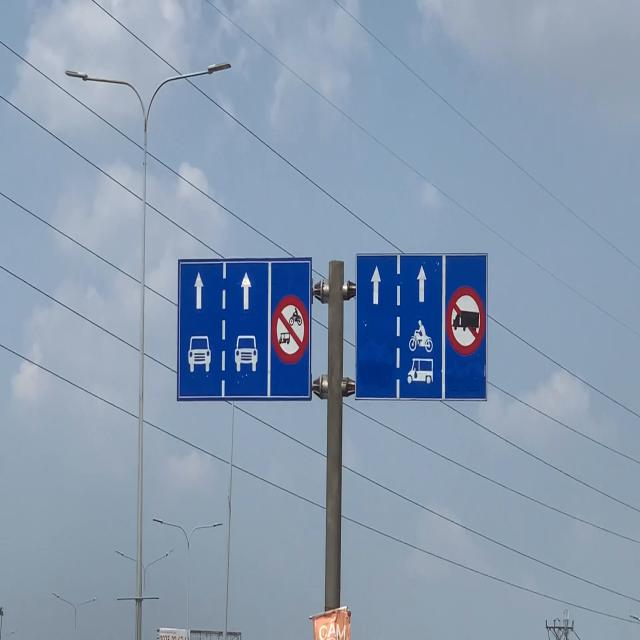Cam con lai: (445, 284, 486, 358), (271, 295, 309, 366)
